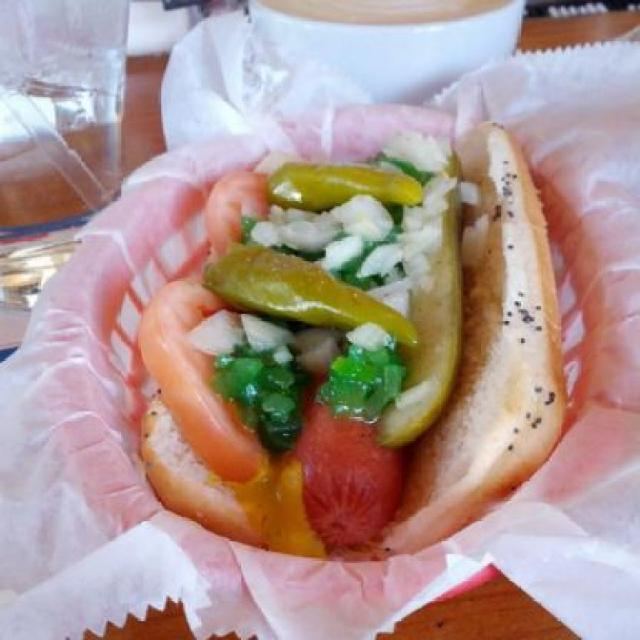Hot dog: (137, 118, 568, 564)
